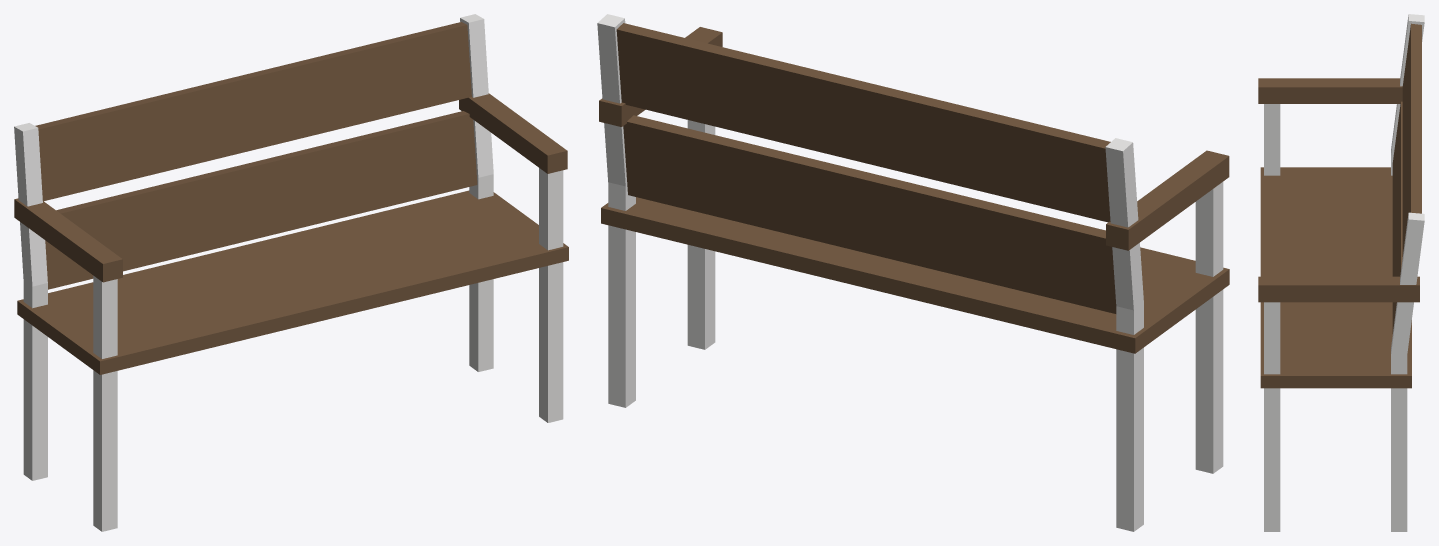
The model's file is Bench.gltf.
3 views of the same model, side by side, from view 1: azimuth 30°, elevation 25°; view 2: azimuth 150°, elevation 25°; view 3: azimuth 270°, elevation 25° (orthographic). The views are drawn at different scales.
Parts seen in each view (by area): view 1: Bench; view 2: Bench; view 3: Bench.
Part boxes in pixels (x1,y1,x2,y2): Bench: (14, 14, 568, 531); Bench: (597, 14, 1229, 531); Bench: (1258, 14, 1424, 531).
Size of the model in its own units: 1.77 by 1.23 by 0.5949.
Materials: 1 (1 with a texture image).
